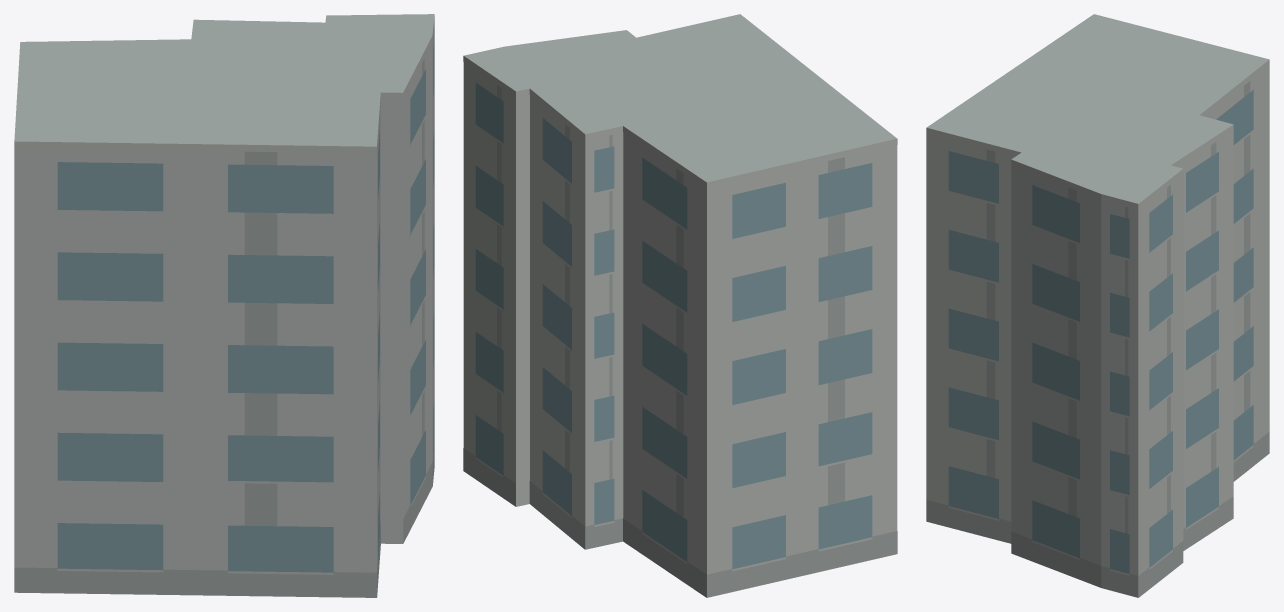
Rendered from survey-upis-32493995.glb.
The picture shows the model from 3 angles, left to right: view 1: azimuth 30°, elevation 25°; view 2: azimuth 150°, elevation 25°; view 3: azimuth 270°, elevation 25°; orthographic projection. The views are drawn at different scales.
Parts seen in each view (by area): view 1: survey-upis-32493995.tmp; view 2: survey-upis-32493995.tmp; view 3: survey-upis-32493995.tmp.
Part boxes in pixels (left/top/right/bottom): survey-upis-32493995.tmp: left=14, top=14, right=434, bottom=597; survey-upis-32493995.tmp: left=463, top=14, right=897, bottom=597; survey-upis-32493995.tmp: left=926, top=14, right=1269, bottom=597.
Bounding box in the file's own units: 16.4 × 15.85 × 12.52.
